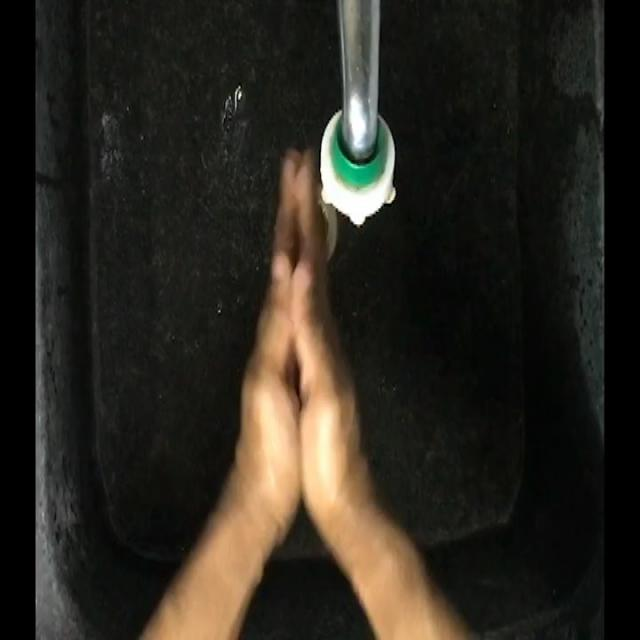step_1: (234, 135, 367, 485)
